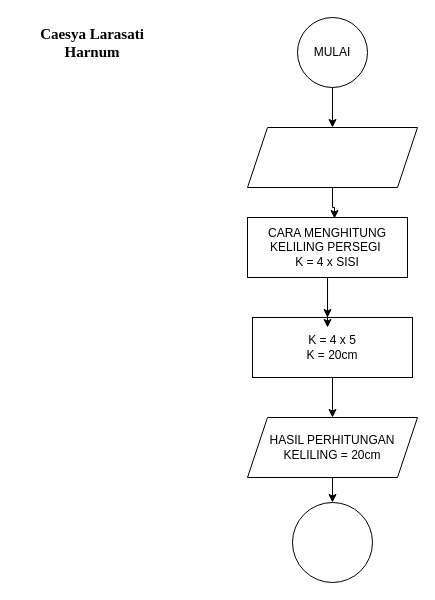
Some shapes in this 435 by 600 pixel diagram are drawn without their labels. Each missing label, with the centre of its shape:
"INPUT NILAI SISI = 5cm" goes at point (332, 157).
"SELESAI" goes at point (332, 542).
